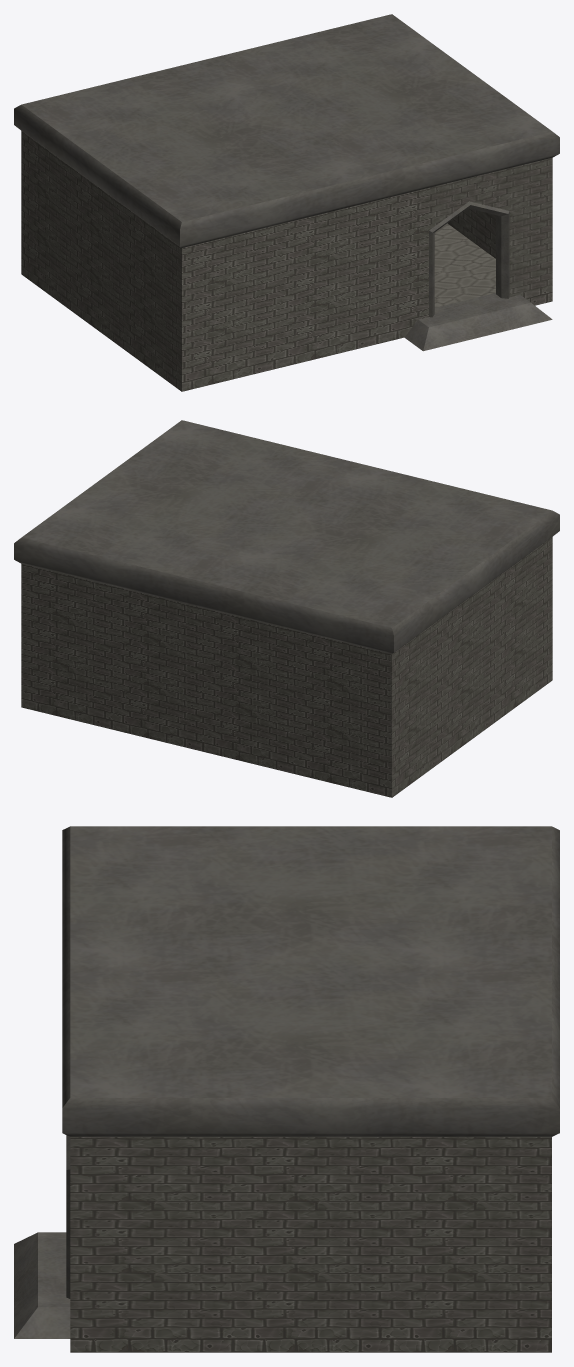
File: Ruins_Building_01col.fbx
3 views of the same model, one above another, from view 1: azimuth 30°, elevation 25°; view 2: azimuth 150°, elevation 25°; view 3: azimuth 270°, elevation 25° (orthographic). The views are drawn at different scales.
Parts seen in each view (by area): view 1: Ruins_Building_01col; view 2: Ruins_Building_01col; view 3: Ruins_Building_01col.
Boxes of the visible parts, bbox=[...] form: Ruins_Building_01col: bbox=[14, 14, 559, 391]; Ruins_Building_01col: bbox=[14, 420, 559, 797]; Ruins_Building_01col: bbox=[14, 826, 559, 1352].
Size of the model in its own units: 82 by 35 by 68.
